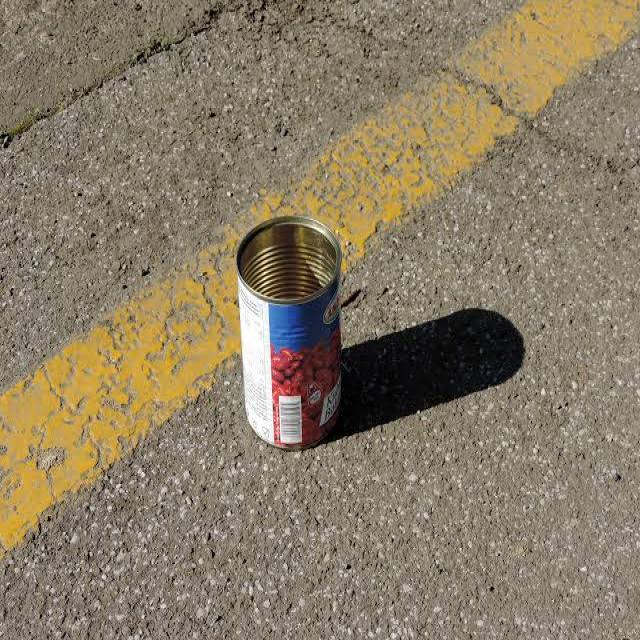can: (224, 217, 370, 451)
